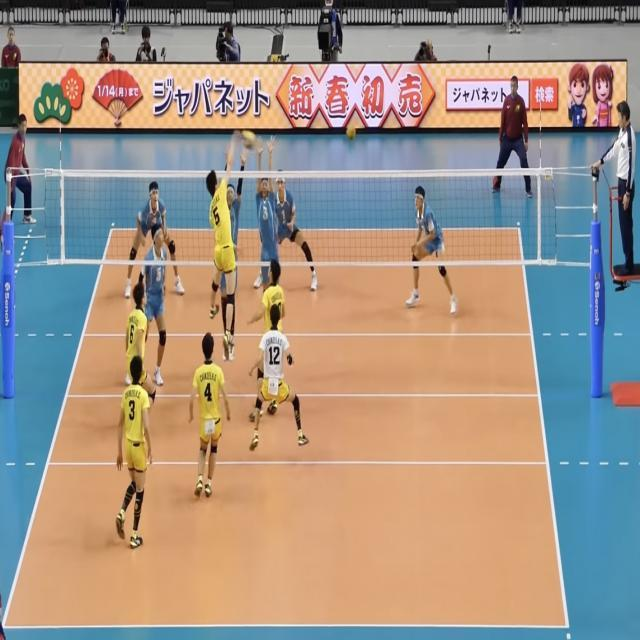spike: (204, 115, 258, 364)
